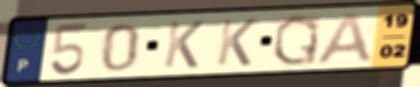0: (100, 21, 145, 72)
5: (48, 21, 90, 77)
A: (313, 11, 377, 66)
K: (213, 17, 260, 68), (161, 19, 207, 70)
Q: (270, 12, 323, 68)
